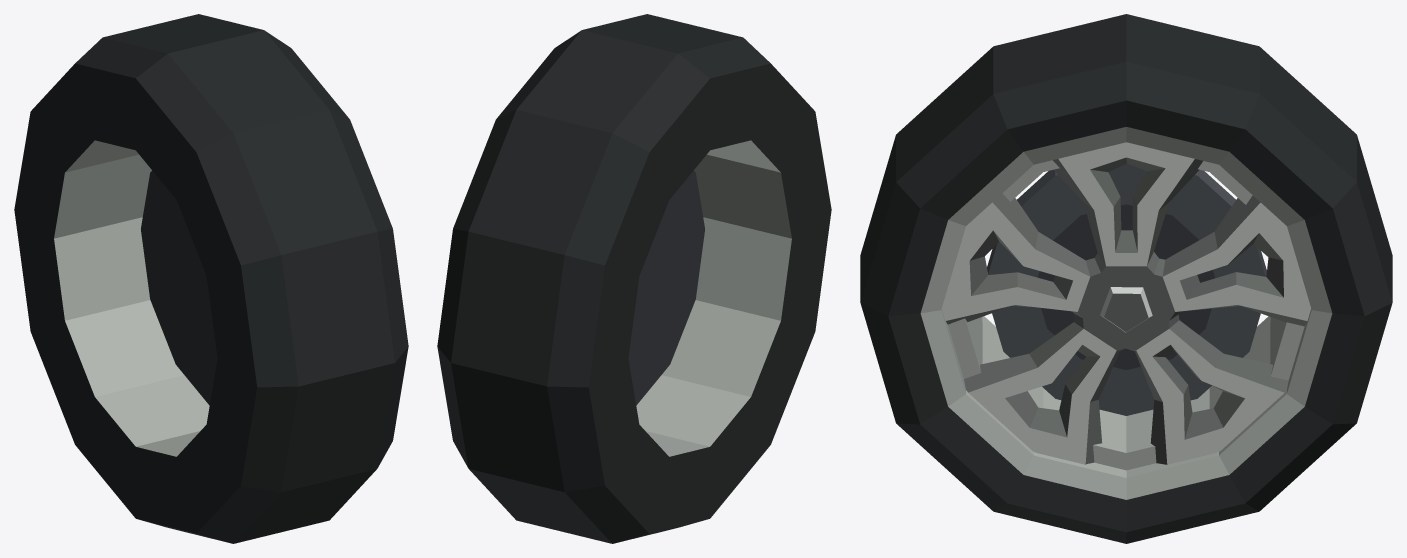
Rendered from SM_Veh_Car_Small_Wheel_rl.obj.
The picture shows the model from 3 angles, left to right: view 1: azimuth 30°, elevation 25°; view 2: azimuth 150°, elevation 25°; view 3: azimuth 270°, elevation 25°; orthographic projection.
Parts seen in each view (by area): view 1: SM_Veh_Car_Small_Wheel_rl_0; view 2: SM_Veh_Car_Small_Wheel_rl_0; view 3: SM_Veh_Car_Small_Wheel_rl_0.
Part boxes in pixels (left/top/right/bottom): SM_Veh_Car_Small_Wheel_rl_0: left=14, top=14, right=408, bottom=543; SM_Veh_Car_Small_Wheel_rl_0: left=437, top=14, right=831, bottom=543; SM_Veh_Car_Small_Wheel_rl_0: left=860, top=14, right=1392, bottom=543.
Size of the model in its own units: 0.2287 by 0.6656 by 0.6656.
Materials: 1 (1 with a texture image).
